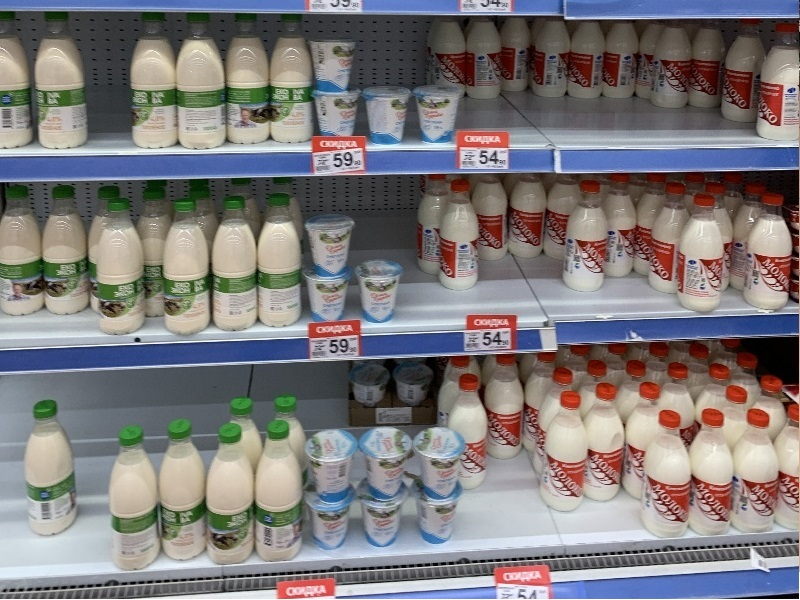milk: (8, 391, 95, 545), (82, 195, 156, 340), (105, 423, 171, 582), (116, 12, 187, 154), (169, 6, 234, 153), (27, 10, 94, 150), (249, 419, 310, 568), (199, 421, 263, 561), (634, 410, 704, 538), (161, 197, 221, 342), (207, 197, 266, 340), (155, 417, 212, 564), (250, 192, 311, 329), (266, 11, 323, 149), (1, 181, 54, 324), (223, 14, 278, 151), (684, 406, 738, 543), (729, 406, 783, 542), (41, 182, 95, 314), (539, 393, 597, 514), (560, 179, 615, 296), (584, 383, 633, 513), (741, 192, 795, 309), (436, 176, 489, 293), (677, 194, 727, 313)
